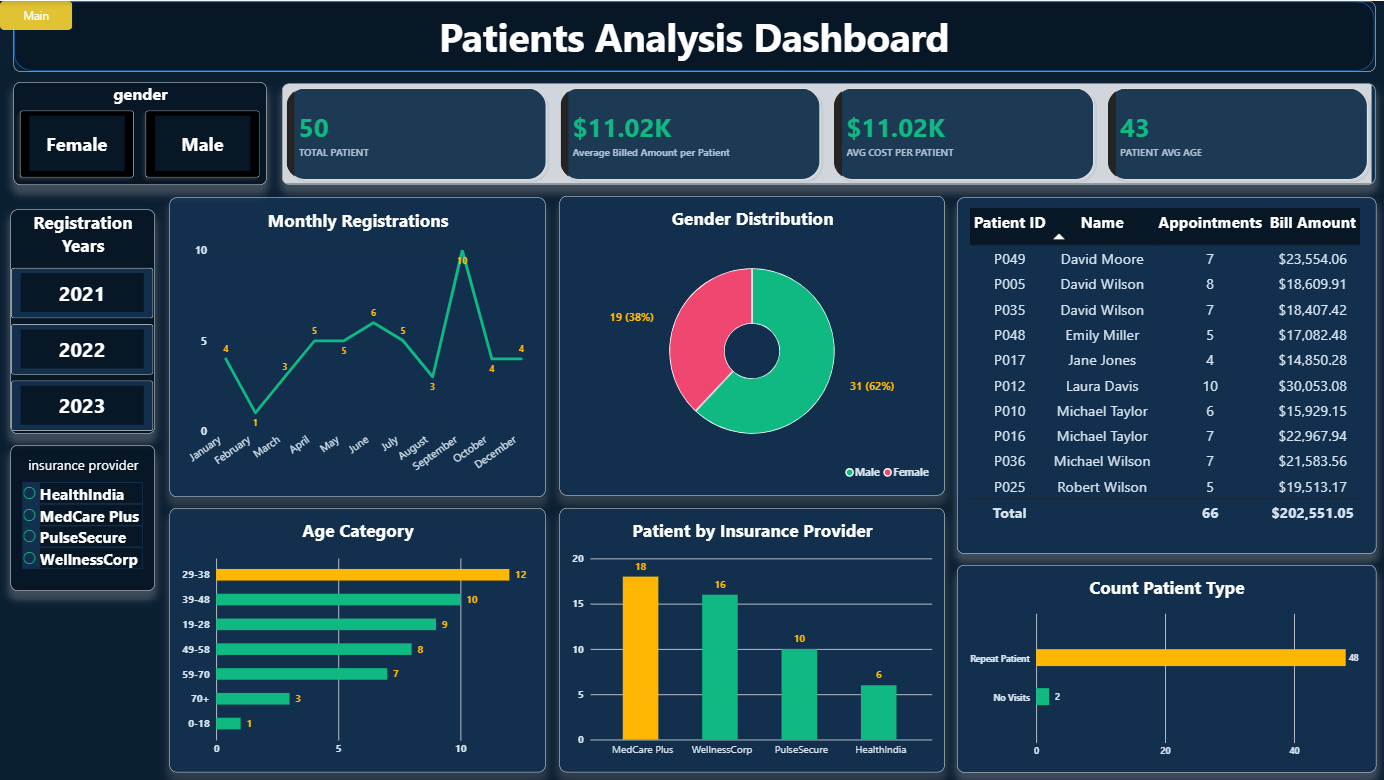

The page's visual inventory and layout, read from the dashboard file:
{"tool":"powerbi","page":{"name":"PATIENTS","canvas":[1920,1080],"ordinal":0},"visuals":[{"type":"cardVisual","fields":{"Data":["Table.TOTAL PATIENT","Table.AVG BILL PER PATIENT","Table.AVG COST PER PATIENT","Table.PATIENT AVG AGE"]},"box":[391.2,114.8,1513.7,140.3],"z":0},{"type":"donutChart","title":"Gender Distribution","fields":{"Category":["public patients.gender"],"Y":["CountNonNull(public patients.patient_id)"]},"box":[773.9,270,533.6,414.6],"z":1000},{"type":"barChart","title":"Age Category","fields":{"Category":["public patients.AGE CATEGORY"],"Y":["CountNonNull(public patients.patient_id)"]},"box":[233.9,701.6,520.9,365.7],"z":2000},{"type":"columnChart","title":"Patient by Insurance Provider","fields":{"Category":["public patients.insurance_provider"],"Y":["CountNonNull(public patients.patient_id)"]},"box":[773.9,701.6,533.6,365.7],"z":3000},{"type":"lineChart","title":"Monthly Registrations","fields":{"Category":["public patients.registration_date.Variation.Date Hierarchy.Month"],"Y":["CountNonNull(public patients.patient_id)"]},"box":[233.9,272.1,520.9,414.6],"z":4000},{"type":"shape","box":[19.1,0,1885.7,97.8],"z":5000},{"type":"advancedSlicerVisual","fields":{"Values":["public patients.gender"]},"box":[19.1,112.7,350.8,142.4],"z":6000},{"type":"listSlicer","title":"insurance provider","fields":{"Values":["public patients.insurance_provider"]},"box":[14.5,615.2,200.3,202.3],"z":7000},{"type":"advancedSlicerVisual","title":"Registration Years","fields":{"Values":["public patients.registration_date.Variation.Date Hierarchy.Year"]},"box":[14.9,289.1,199.8,310.4],"z":8000},{"type":"tableEx","fields":{"Values":["public patients.patient_id","public patients.full_name","public appointments.appointment_id","public bills.Total Bill Amount"]},"box":[1324.5,272.1,580.4,493.2],"z":9000},{"type":"barChart","title":"Count Patient Type","fields":{"Category":["public patients.Patient Type"],"Y":["CountNonNull(public patients.patient_id)"]},"box":[1324.5,780.2,580.4,287],"z":10000},{"type":"actionButton","box":[0,0,100,40],"z":11000}]}

Visuals, with their boxes in screenshot pixels (x1, y1, x2, y2), scaled from the page's 1920x1080 canvas onto the 1384x780 screenshot:
cardVisual - Table.TOTAL PATIENT x Table.AVG BILL PER PATIENT: 282 83 1373 184
"Gender Distribution" donutChart: 558 195 942 494
"Age Category" barChart: 169 507 544 771
"Patient by Insurance Provider" columnChart: 558 507 942 771
"Monthly Registrations" lineChart: 169 197 544 496
shape: 14 0 1373 71
advancedSlicerVisual - public patients.gender: 14 81 267 184
"insurance provider" listSlicer: 10 444 155 590
"Registration Years" advancedSlicerVisual: 11 209 155 433
tableEx - public patients.patient_id x public patients.full_name: 955 197 1373 553
"Count Patient Type" barChart: 955 563 1373 771
actionButton: 0 0 72 29
